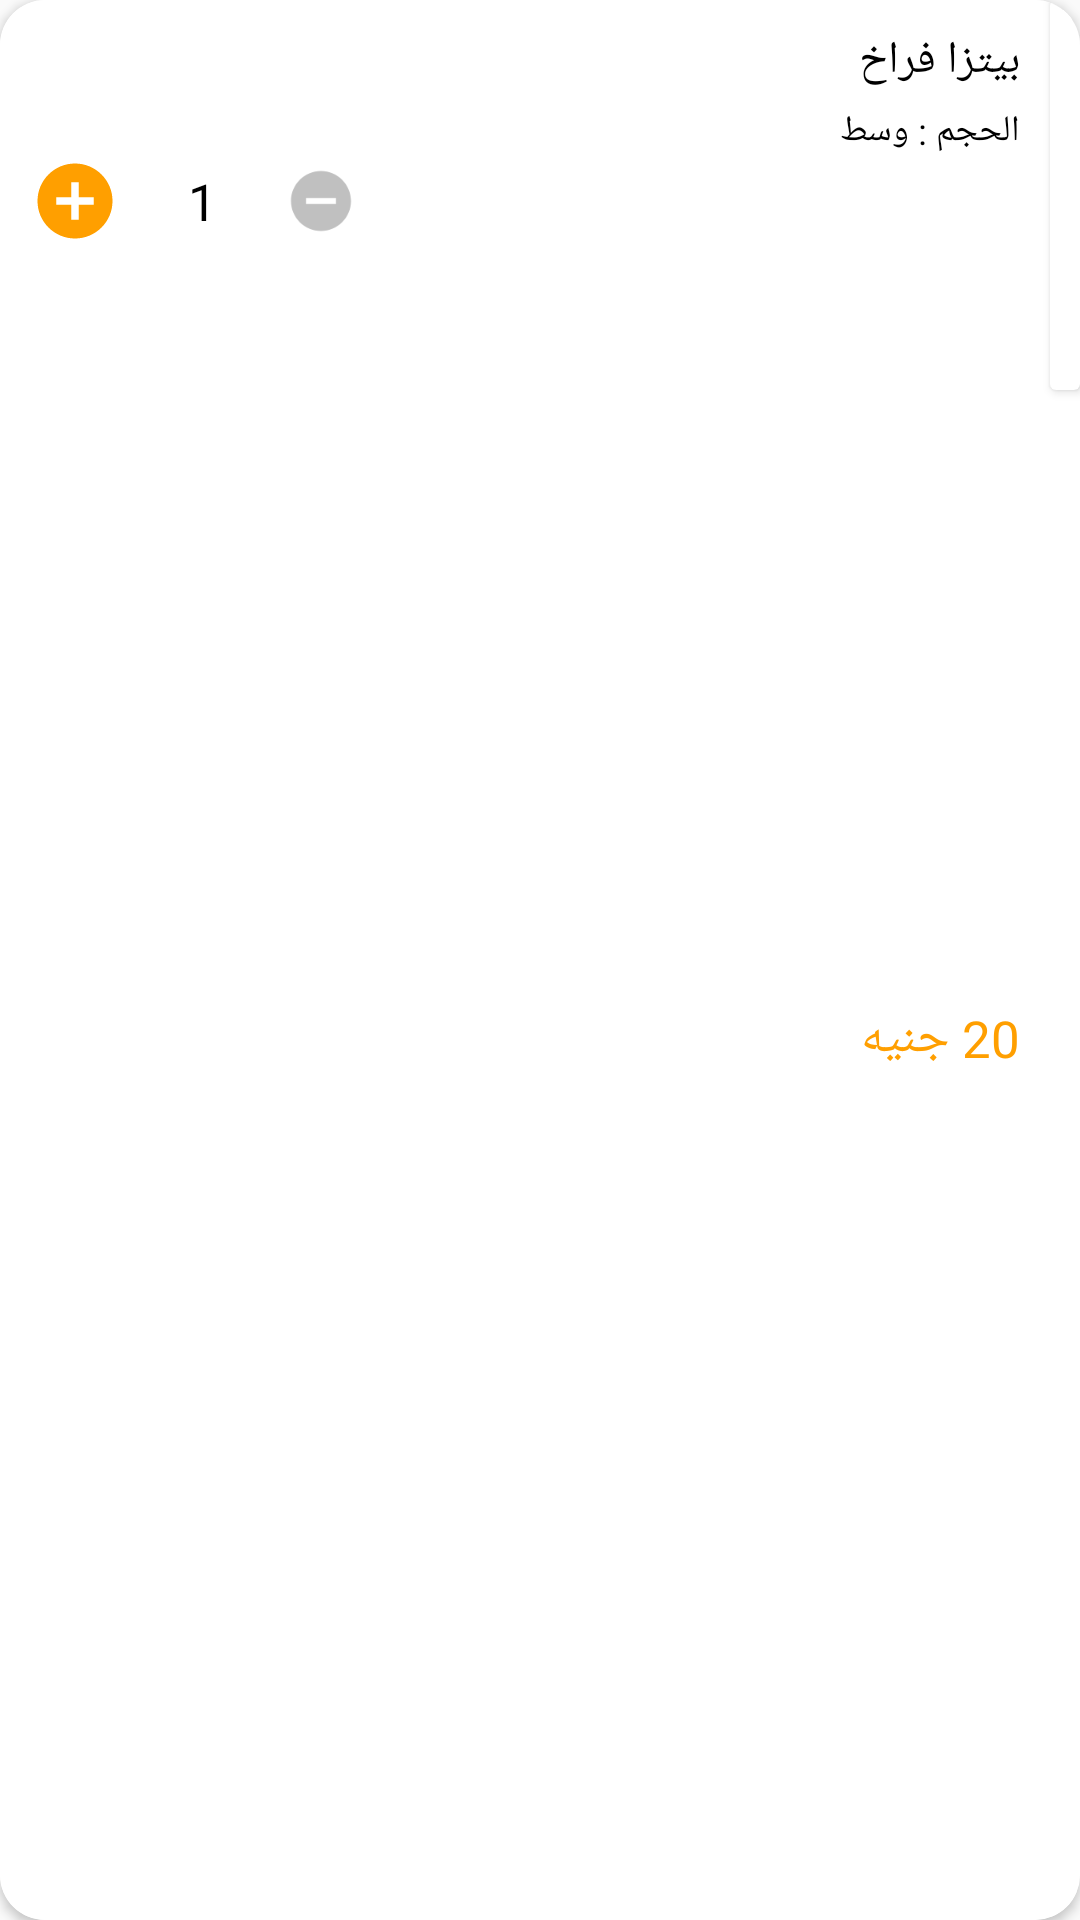

Point at icon controls on the screen. Image size 1080*1920, points as point (x, y).
addd: point (75, 201)
